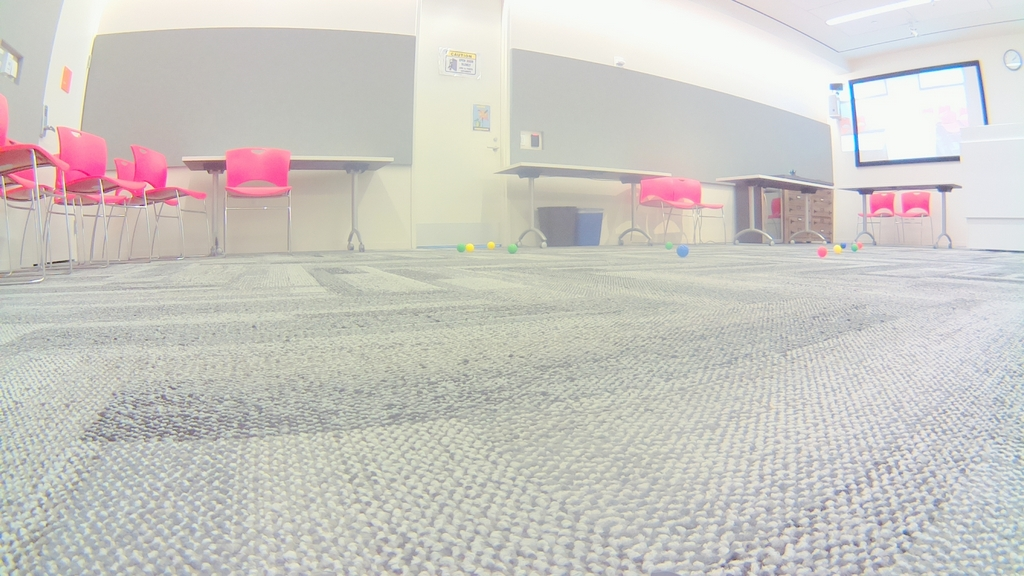ball: (841, 242, 846, 247)
